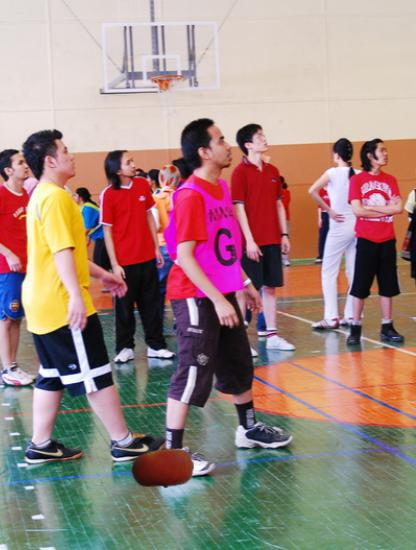Nectarine: (131, 436, 194, 499)
